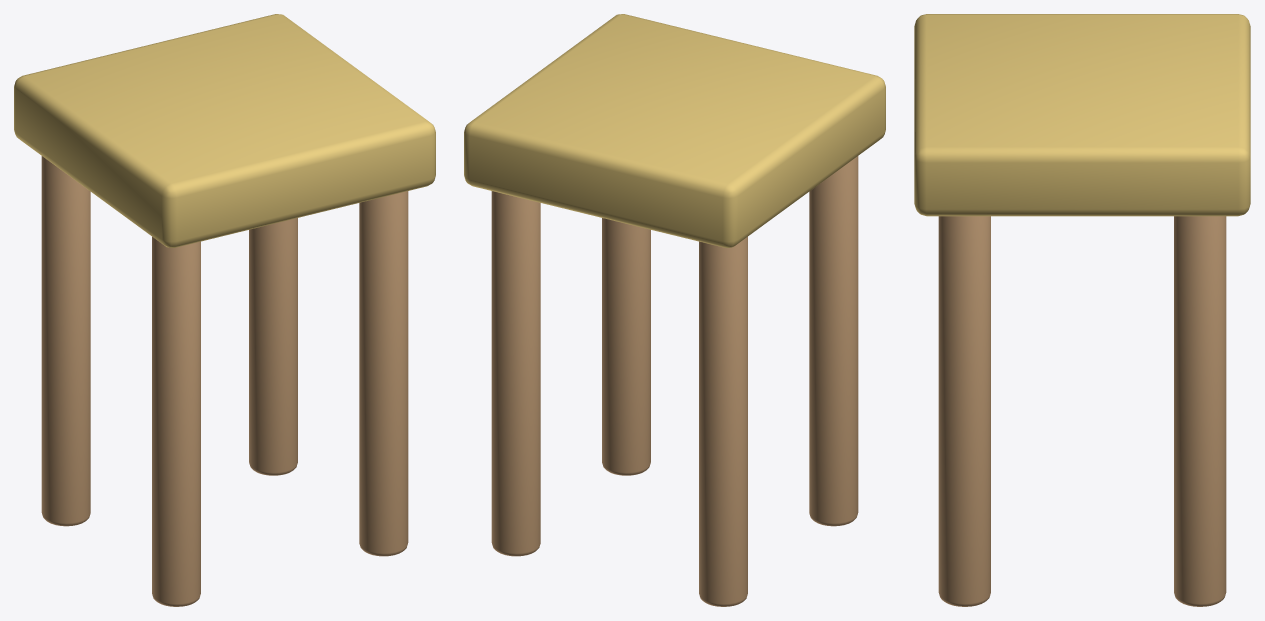
Rendered from stool.glb.
3 views of the same model, side by side, from view 1: azimuth 30°, elevation 25°; view 2: azimuth 150°, elevation 25°; view 3: azimuth 270°, elevation 25° (orthographic). The views are drawn at different scales.
Visible parts, largest first — view 1: seat.004, leg-3.007, leg-1.007, leg-2.007, leg-4.007; view 2: seat.004, leg-4.007, leg-2.007, leg-1.007, leg-3.007; view 3: seat.004, leg-3.007, leg-4.007.
Boxes of the visible parts, left/top/right/bottom form: seat.004: left=14, top=14, right=435, bottom=247; leg-3.007: left=359, top=191, right=408, bottom=556; leg-1.007: left=152, top=237, right=200, bottom=606; leg-2.007: left=41, top=156, right=90, bottom=526; leg-4.007: left=249, top=218, right=297, bottom=475; seat.004: left=464, top=14, right=885, bottom=247; leg-4.007: left=491, top=191, right=540, bottom=556; leg-2.007: left=699, top=237, right=747, bottom=606; leg-1.007: left=809, top=156, right=858, bottom=526; leg-3.007: left=602, top=218, right=650, bottom=475; seat.004: left=914, top=14, right=1250, bottom=216; leg-3.007: left=938, top=216, right=990, bottom=606; leg-4.007: left=1174, top=216, right=1226, bottom=606.
Bounding box in the file's own units: 0.45 × 0.684 × 0.45.
